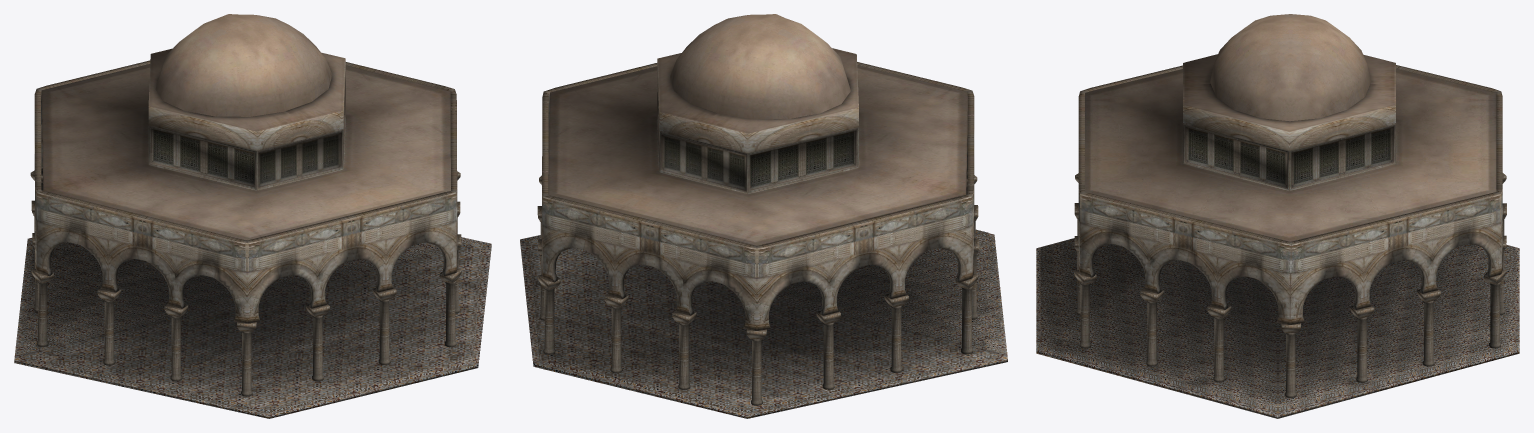
Rendered from building2.obj.
3 views of the same model, side by side, from view 1: azimuth 30°, elevation 25°; view 2: azimuth 150°, elevation 25°; view 3: azimuth 270°, elevation 25° (orthographic). The views are drawn at different scales.
Visible parts, largest first — view 1: Shape5, Form22, Form8, Form16, f_Form30, f_Form25; view 2: Shape5, Form22, Form8, Form16, e_Form30, e_Form25, f_Form30; view 3: Shape5, Form22, Form8, Form16, e_Form30, f_Form30, e_Form25, f_Form25.
Boxes of the visible parts, <box> form: Shape5: <box>41,48,450,240</box>; Form22: <box>14,237,491,418</box>; Form8: <box>34,60,457,323</box>; Form16: <box>155,14,332,116</box>; f_Form30: <box>37,216,459,396</box>; f_Form25: <box>31,201,461,331</box>; Shape5: <box>548,48,967,245</box>; Form22: <box>520,229,1007,418</box>; Form8: <box>542,62,974,330</box>; Form16: <box>670,14,850,119</box>; e_Form30: <box>539,221,902,405</box>; e_Form25: <box>537,175,908,339</box>; f_Form30: <box>961,187,977,354</box>; Shape5: <box>1084,54,1496,241</box>; Form22: <box>1036,238,1519,418</box>; Form8: <box>1078,65,1502,324</box>; Form16: <box>1210,14,1370,121</box>; e_Form30: <box>1285,218,1505,397</box>; f_Form30: <box>1076,218,1225,382</box>; e_Form25: <box>1281,173,1506,333</box>; f_Form25: <box>1074,173,1231,318</box>.
Bounding box in the file's own units: 933 × 521 × 819.
